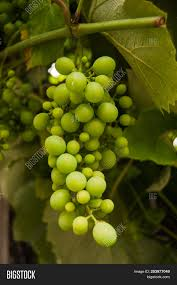grapes: (43, 50, 137, 250)
